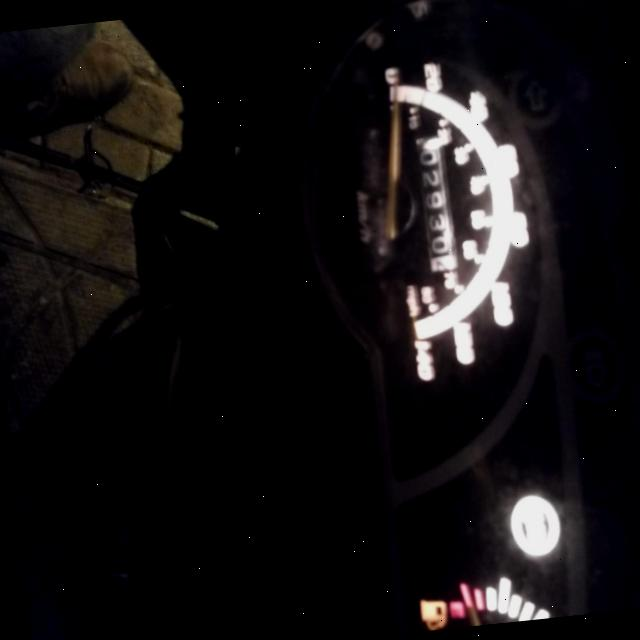odometer: (411, 132, 459, 276)
